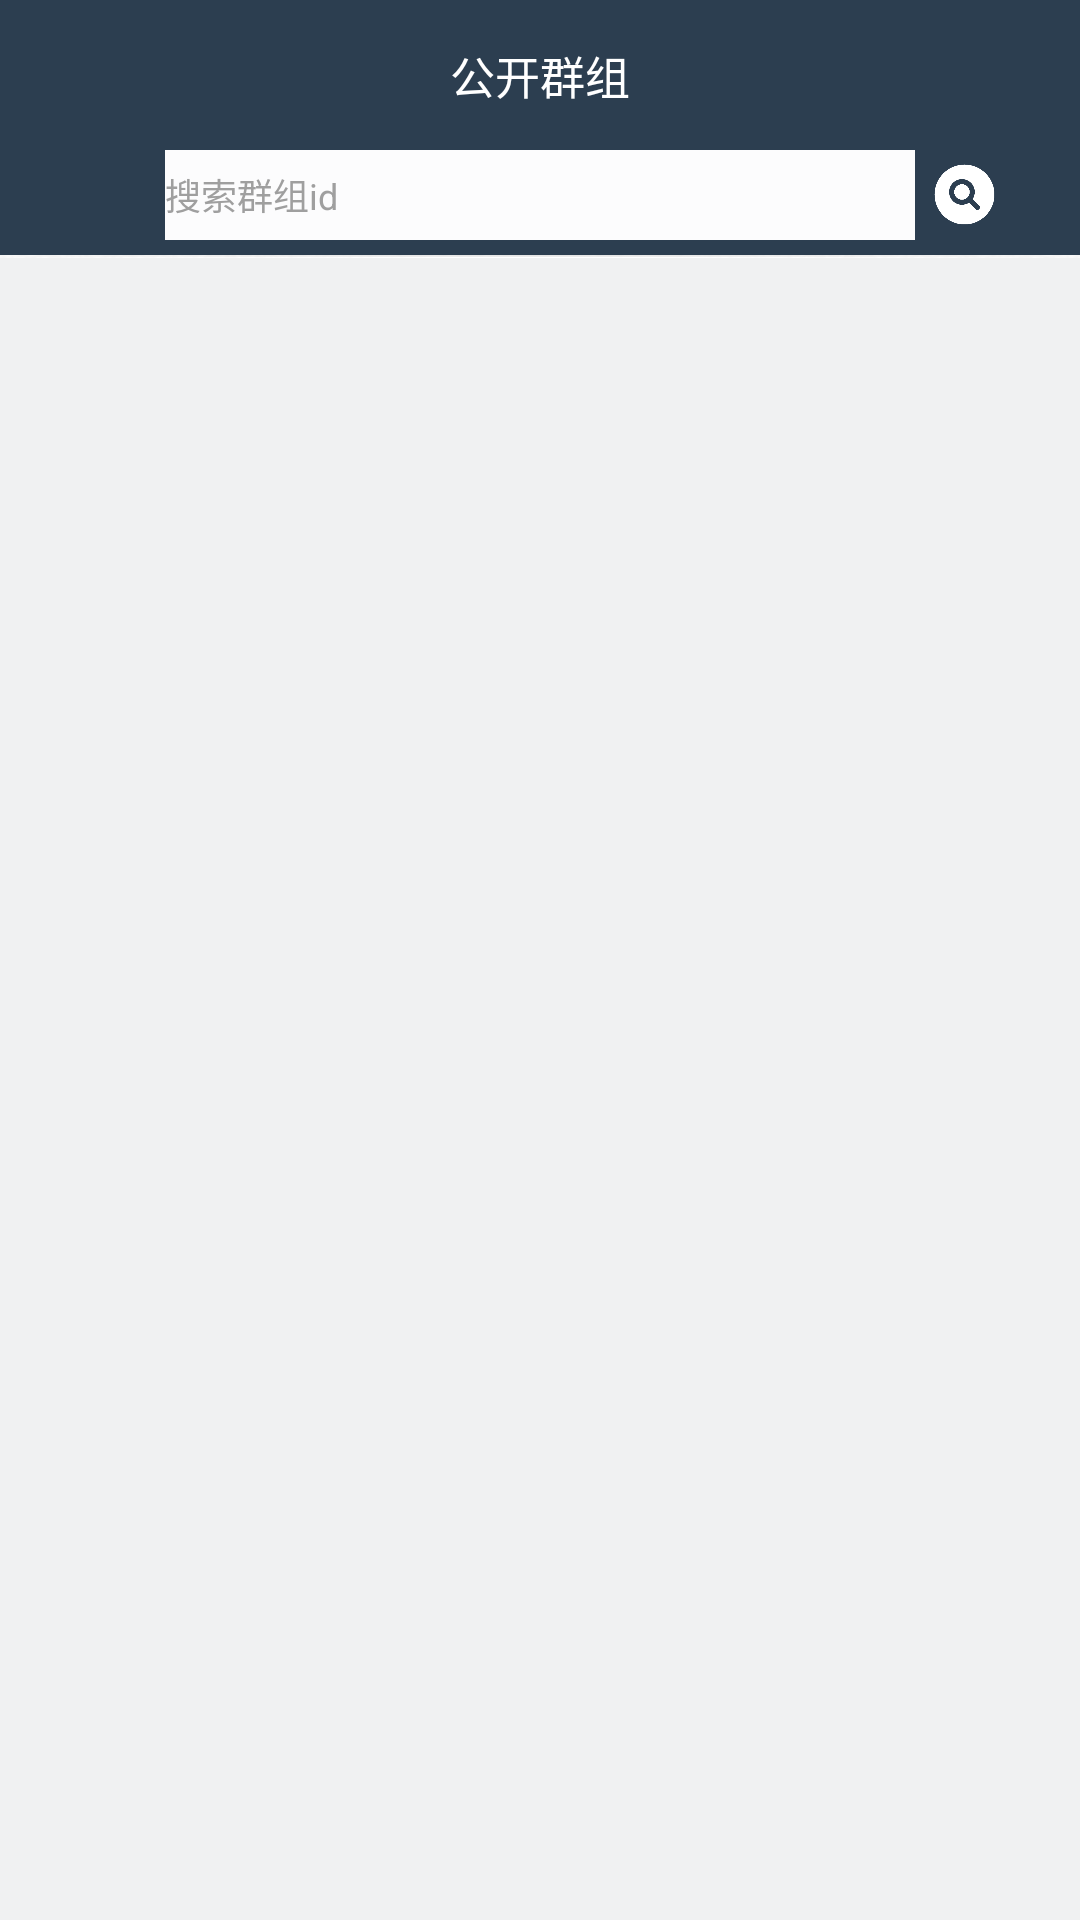

Icons on this 1080 × 1920 Android screen, each with the point to tap as [x,y]:
search: [964,194]
